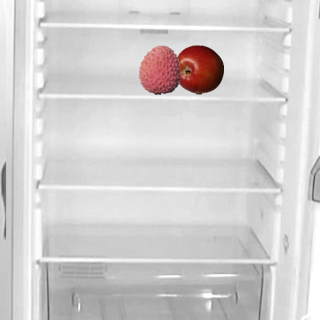Apple Braeburn: (173, 44, 223, 94)
Lychee: (134, 44, 184, 94)
